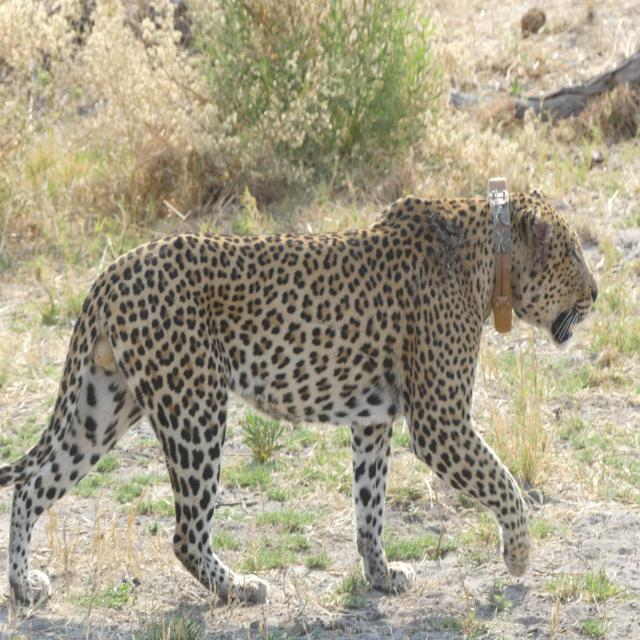Leopard: (0, 199, 600, 640)
